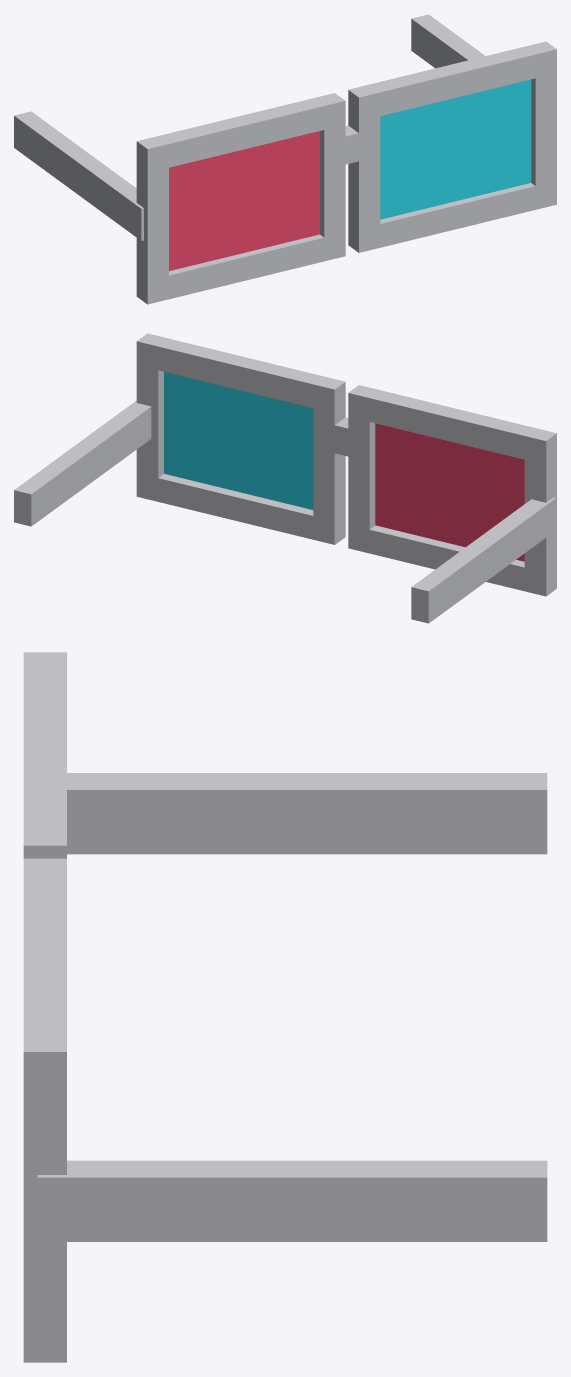
Rendered from anaglyph-icon.gltf.
3 renders of one model, top to bottom at view 1: azimuth 30°, elevation 25°; view 2: azimuth 150°, elevation 25°; view 3: azimuth 270°, elevation 25°, orthographic. The views are drawn at different scales.
Size of the model in its own units: 3.1 by 1.11 by 1.7.
